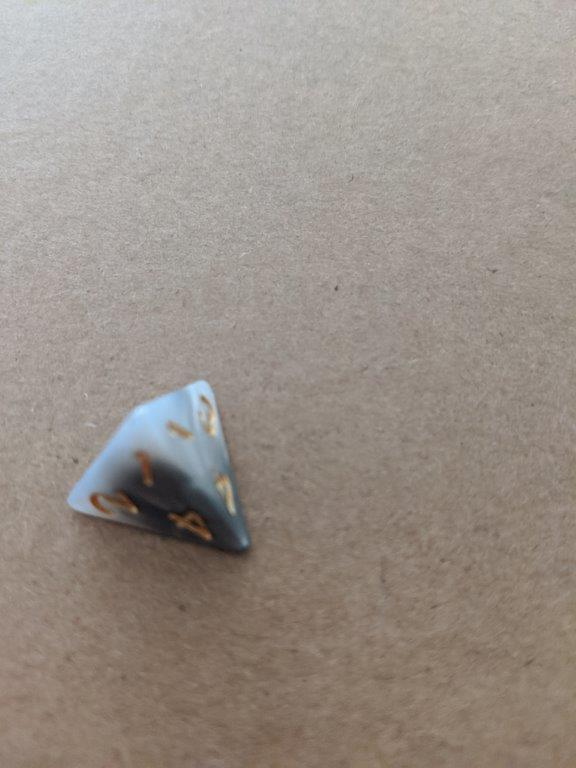d4-1: (61, 374, 262, 569)
